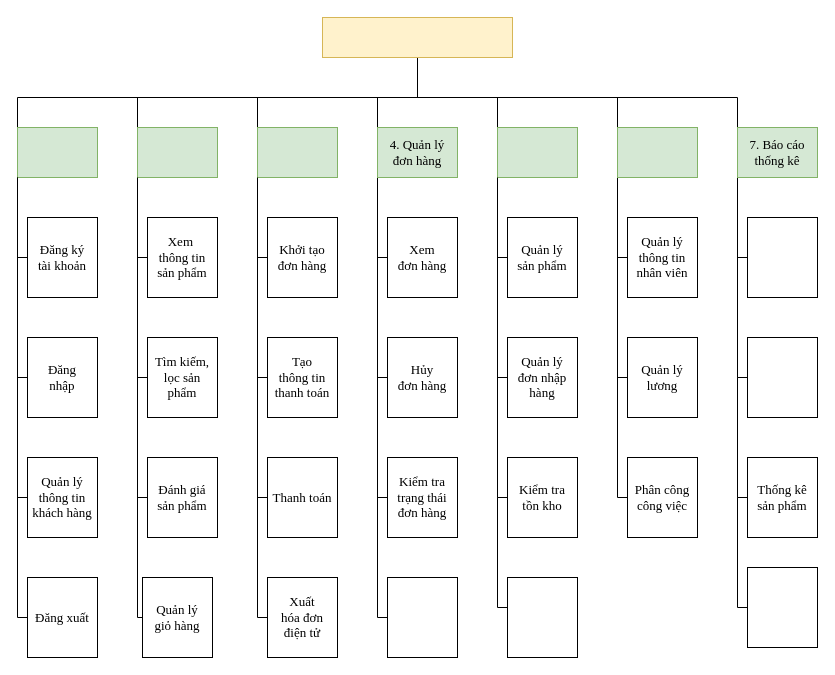
Some shapes in this 835 by 675 pixel diagram are drawn without their labels. The centre of each missing label's shape, as x and y in pixels:
"1. Quản lý khách hàng" belongs at [57,152].
"2. Quản lý bán hàng" belongs at [177,152].
"3. Quản lý thanh toán" belongs at [297,152].
"5. Quản lý kho" belongs at [537,152].
"6. Quản lý nhân viên" belongs at [657,152].
"Báo cáo doanh thu" belongs at [782,377].
"Báo cáo nhân viên xuất sắc" belongs at [782,607].
"Cập nhật trạng thái đơn hàng" belongs at [422,617].
"Phân tích khách hàng" belongs at [782,257].
"Quản lý nhà cung cấp" belongs at [542,617].
"Quản lý website bán nhạc cụ" belongs at [417,37].
